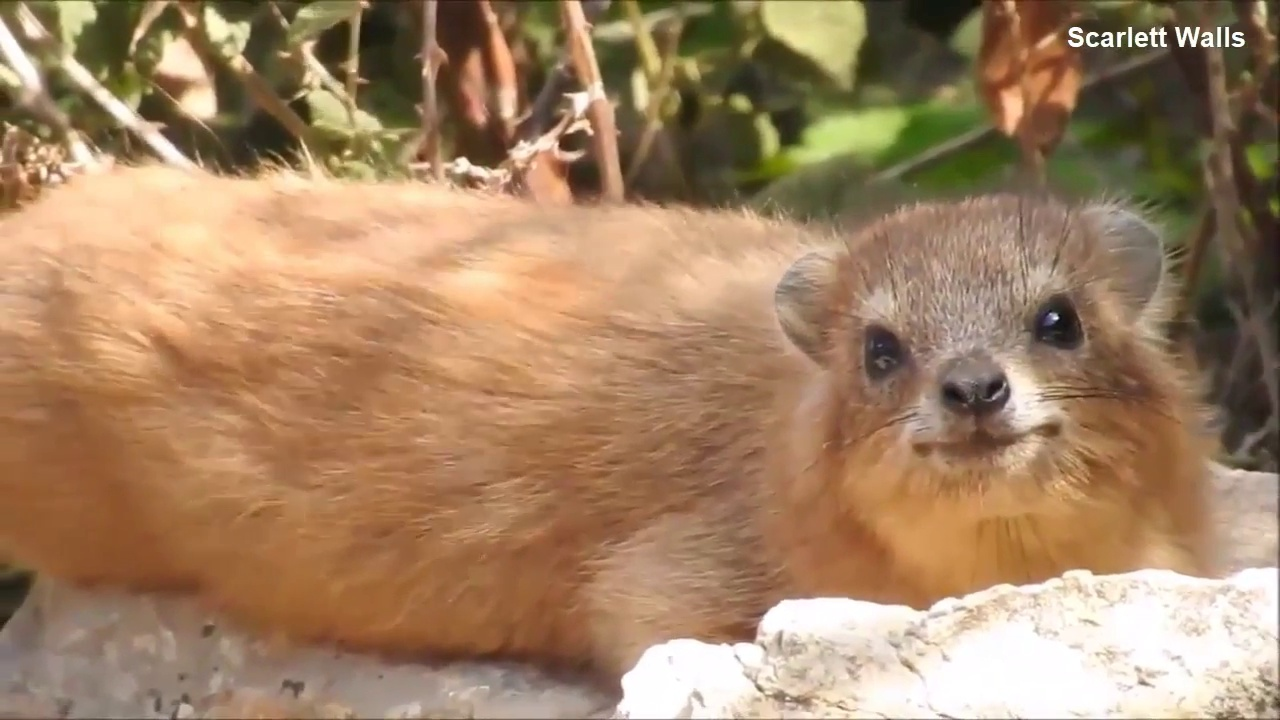Rock Hyrex: (1, 157, 1205, 698)
